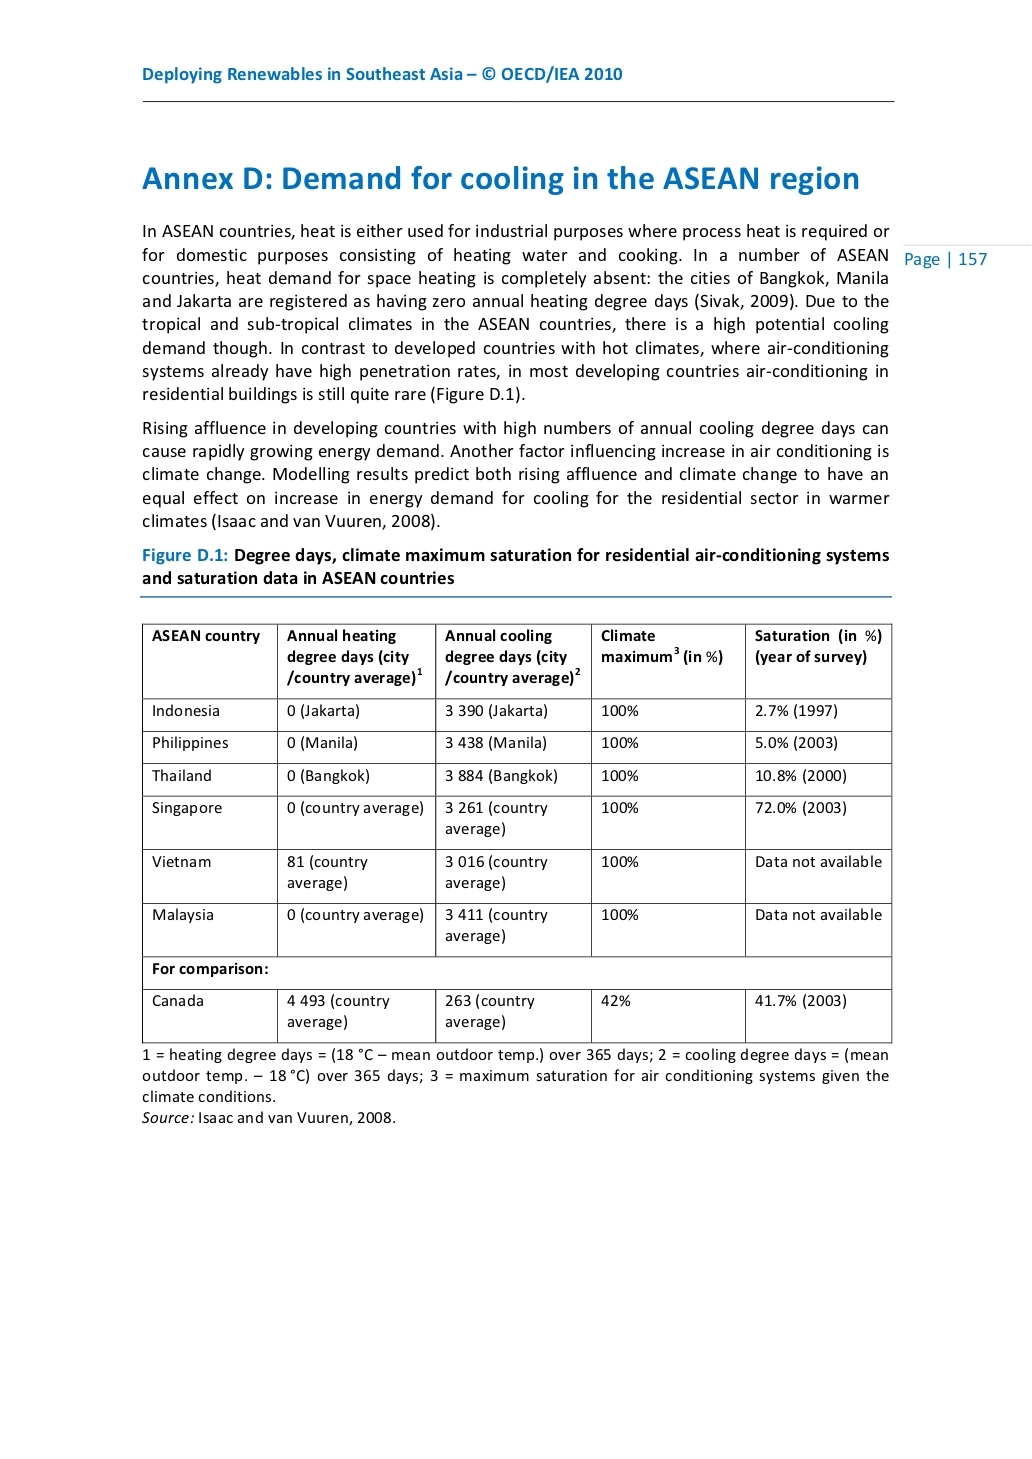Table: (142, 622, 892, 1044)
